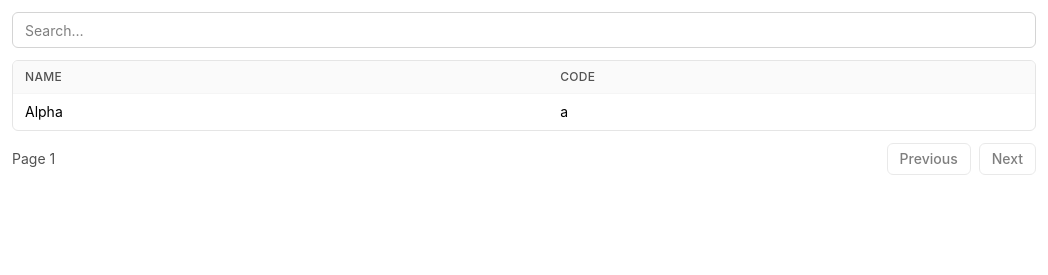
Test case: DataTable (Requirement 49.4) › searches after a short pause and says so when nothing matches
The image size is (1048, 275).
Expected: the text "Alpha" is shown, [13,94,548,130]
Step 1. Type "zzz" into the search field named "Search the list" → (524, 30), box [12,12,1036,48]
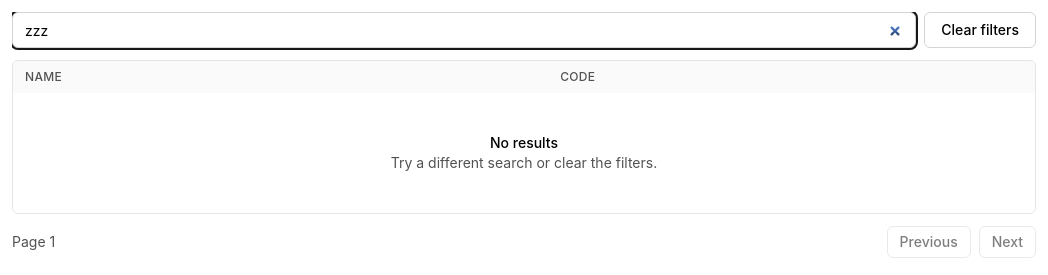
Now the text "No results" is shown, box [490,134,558,151]
Step 2. Click the button "Clear filters" → (980, 30), box [924,12,1036,48]
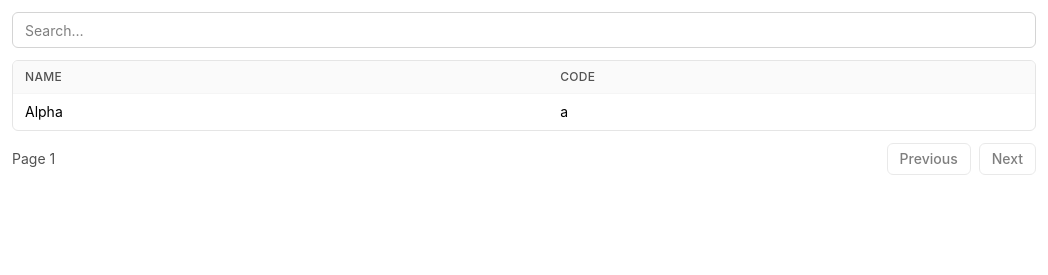
Now the text "Alpha" is shown, box [13,94,548,130]
